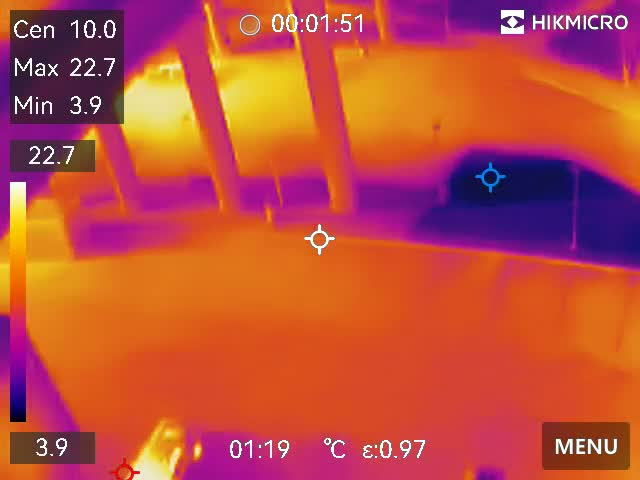vehicle: (115, 411, 195, 480)
